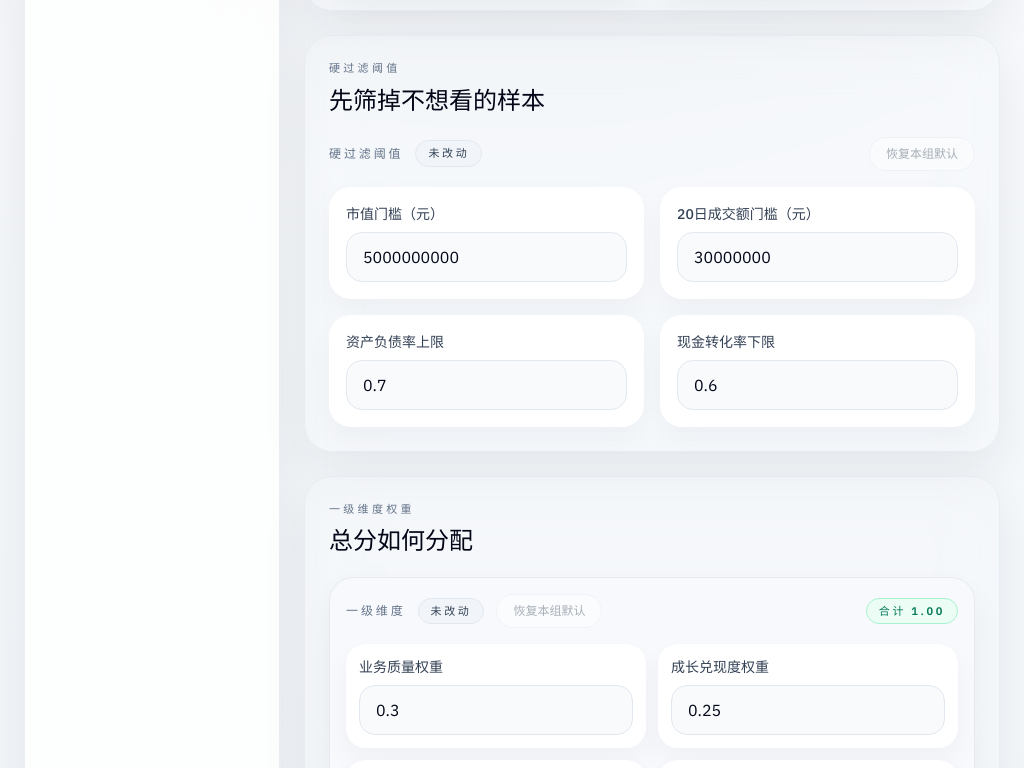
Test: LabPage › blocks submit and shows inline validation errors for invalid values
(page scrolled)
Step 1. Replace the text in the number field labelled "现金转化率下限" with "1.2" → (818, 384), box [677,360,958,410]
(page scrolled)
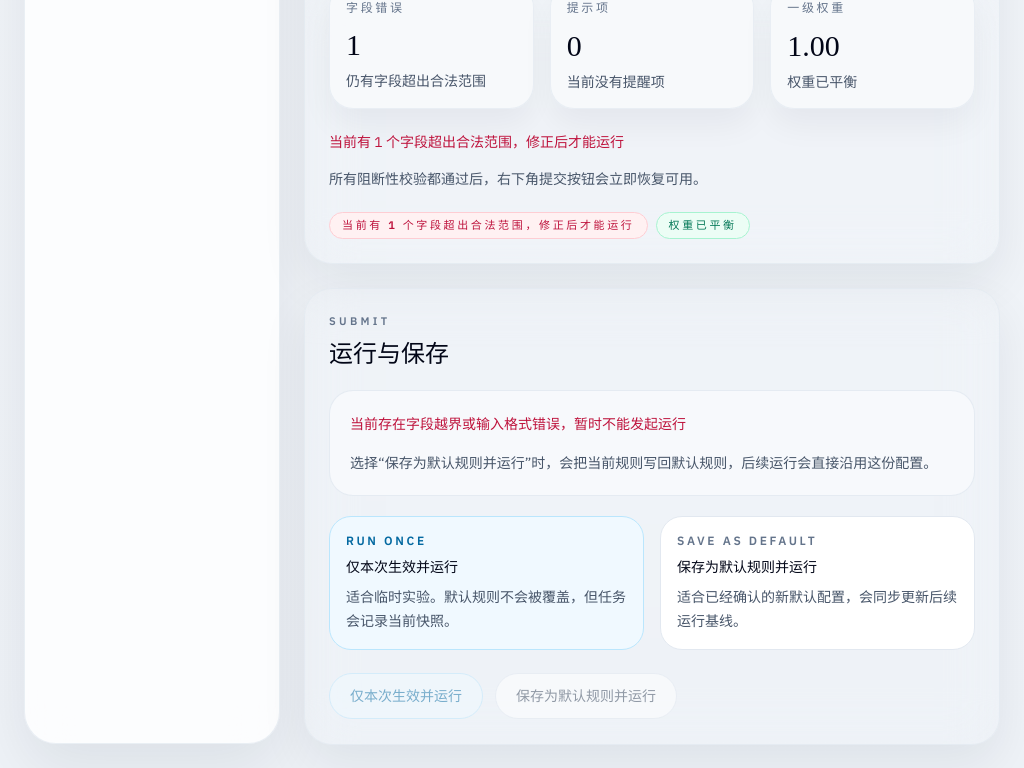
Now the 1st text "当前有 1 个字段超出合法范围，修正后才能运行" is shown, box [329,133,624,151]
Now the text "当前存在字段越界或输入格式错误，暂时不能发起运行" is shown, box [350,415,686,433]
Now the button "仅本次生效并运行" is disabled, box [329,673,483,719]
